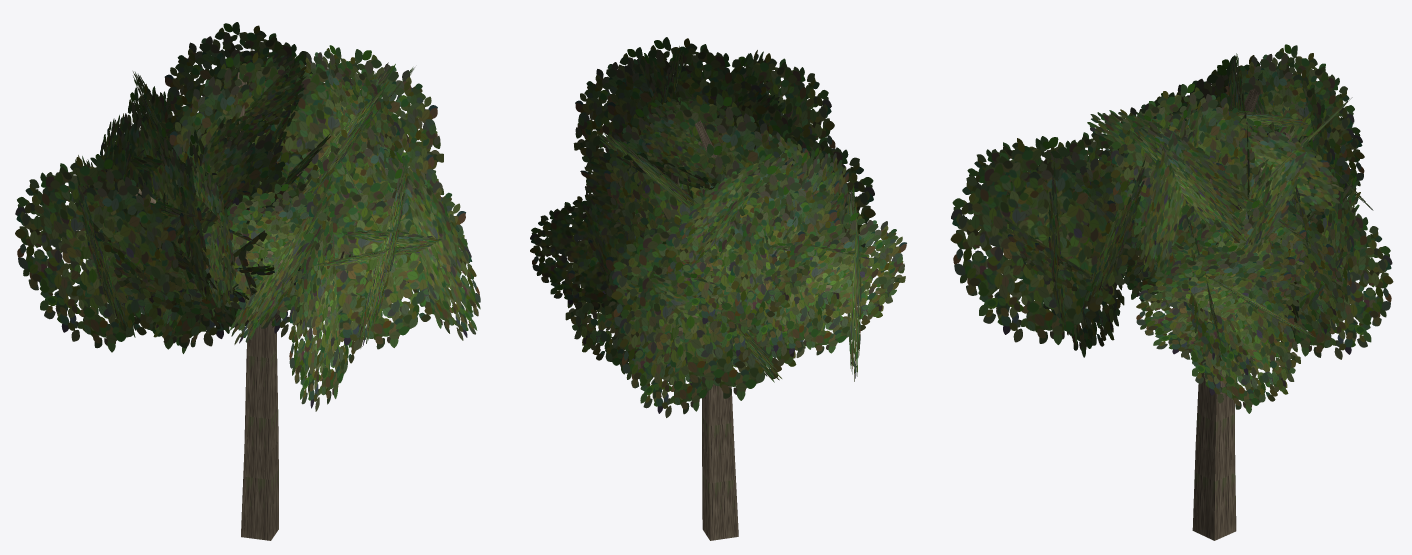
Rendered from Tree_Oak_3_LOD2.gltf.
3 views of the same model, side by side, from view 1: azimuth 30°, elevation 25°; view 2: azimuth 150°, elevation 25°; view 3: azimuth 270°, elevation 25° (orthographic). The views are drawn at different scales.
Visible parts, largest first — view 1: Tree_Oak_3_LOD2; view 2: Tree_Oak_3_LOD2; view 3: Tree_Oak_3_LOD2.
Part boxes in pixels (left/top/right/bottom): Tree_Oak_3_LOD2: left=15, top=22, right=480, bottom=540; Tree_Oak_3_LOD2: left=530, top=37, right=906, bottom=540; Tree_Oak_3_LOD2: left=950, top=44, right=1393, bottom=540.
Size of the model in its own units: 19.56 by 23.36 by 19.66.
2 materials, 2 textured.
